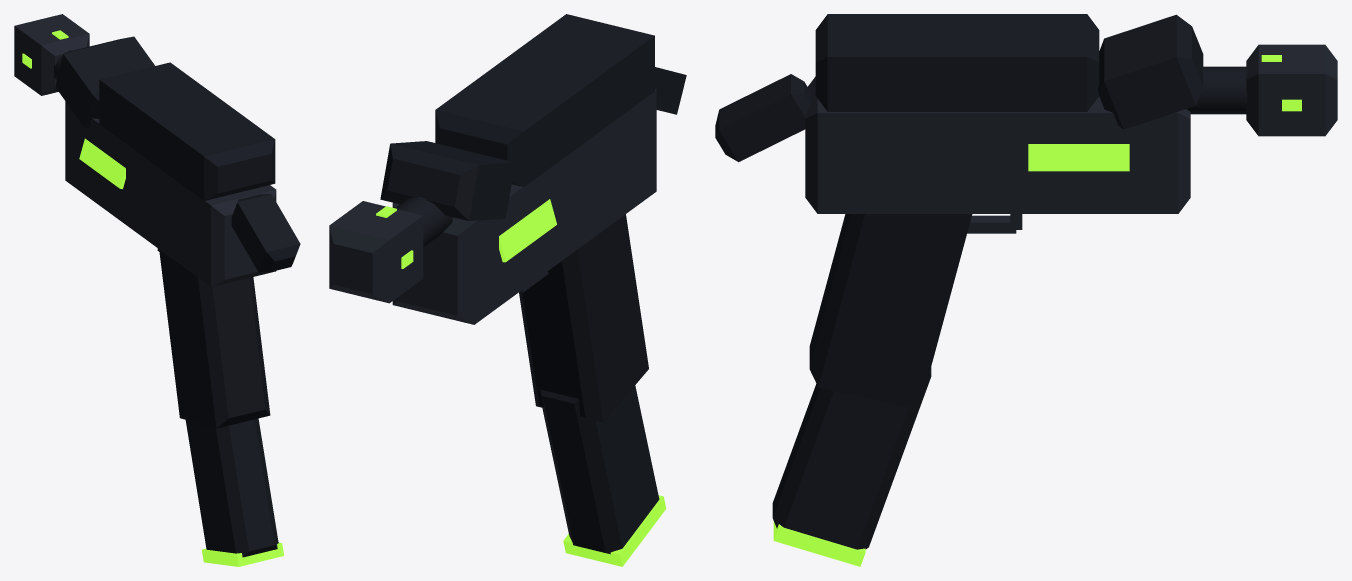
File: weapon_viper.glb
3 views of the same model, side by side, from view 1: azimuth 30°, elevation 25°; view 2: azimuth 150°, elevation 25°; view 3: azimuth 270°, elevation 25° (orthographic). The views are drawn at different scales.
Visible parts, largest first — view 1: weapon_viper; view 2: weapon_viper; view 3: weapon_viper.
Part boxes in pixels (x1,y1,x2,y2): weapon_viper: (14,14,300,566); weapon_viper: (329,14,686,566); weapon_viper: (715,14,1337,566).
Bounding box in the file's own units: 0.054 × 0.2819 × 0.3069.
